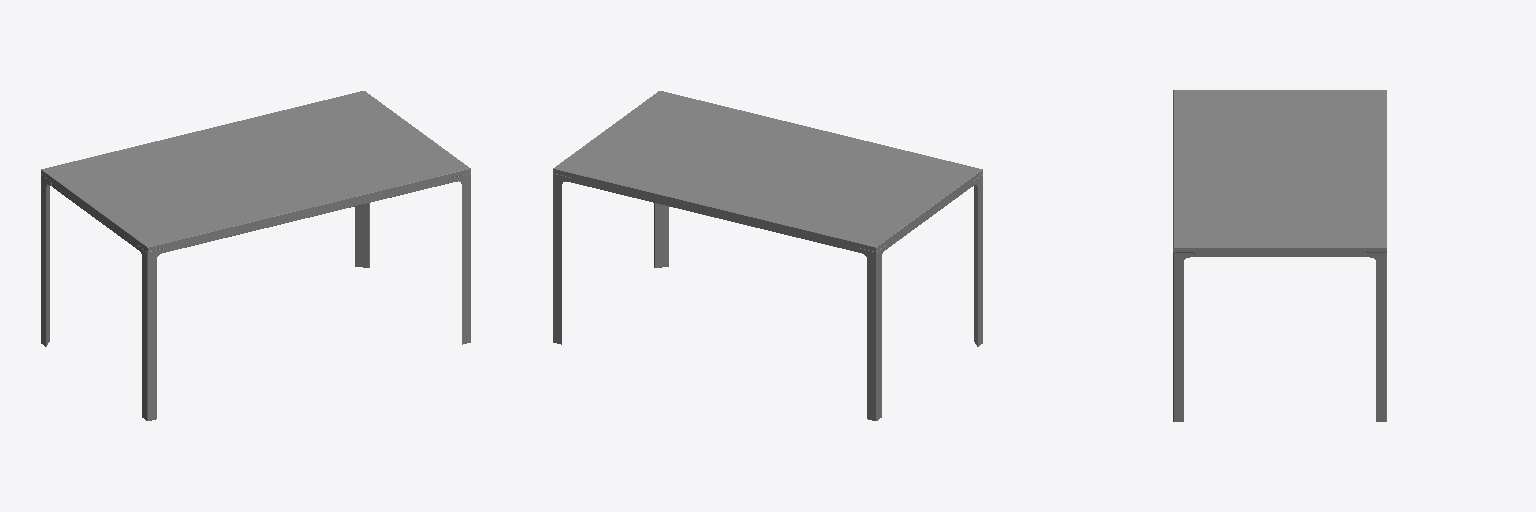
Rendered from desalto_bend_in_obj.obj.
The picture shows the model from 3 angles: view 1: azimuth 30°, elevation 25°; view 2: azimuth 150°, elevation 25°; view 3: azimuth 270°, elevation 25°; orthographic projection.
Visible parts, largest first — view 1: desalto_bend_in; view 2: desalto_bend_in; view 3: desalto_bend_in.
Boxes of the visible parts, <box> form: desalto_bend_in: <box>41,91,470,420</box>; desalto_bend_in: <box>553,91,982,420</box>; desalto_bend_in: <box>1173,90,1386,421</box>.
Size of the model in its own units: 140 by 72 by 80.02.